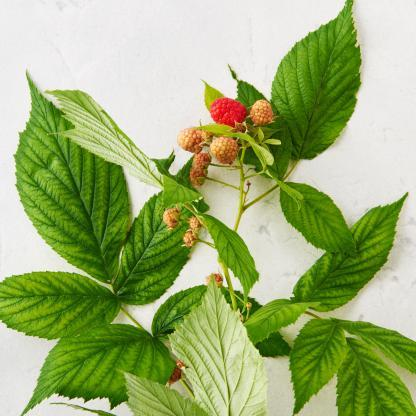Raspberry leaf: (15, 66, 134, 283), (266, 0, 361, 163), (19, 323, 174, 416), (115, 160, 200, 310), (1, 272, 121, 340), (285, 318, 347, 416), (338, 335, 416, 408)
